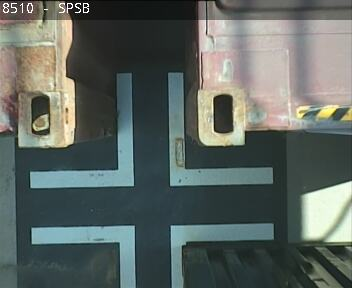groundmarker_1: (30, 71, 271, 187), (32, 223, 272, 288)
